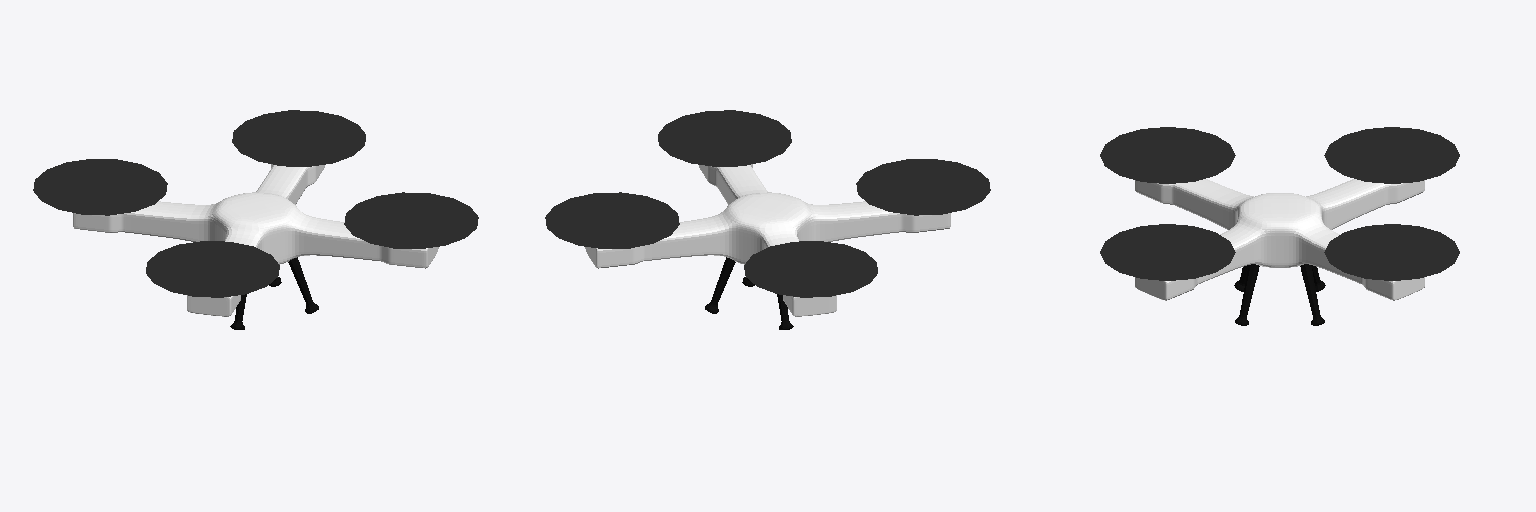
The model's file is Drone.obj.
The picture shows the model from 3 angles: view 1: azimuth 30°, elevation 25°; view 2: azimuth 150°, elevation 25°; view 3: azimuth 270°, elevation 25°; orthographic projection.
Visible parts, largest first — view 1: Circle, Cube, Cube.001; view 2: Circle, Cube, Cube.001; view 3: Circle, Cube, Cube.001.
Boxes of the visible parts, x1=… form: Circle: x1=33, y1=110, x2=478, y2=297; Cube: x1=73, y1=164, x2=438, y2=316; Cube.001: x1=230, y1=257, x2=318, y2=329; Circle: x1=545, y1=110, x2=990, y2=297; Cube: x1=585, y1=164, x2=950, y2=316; Cube.001: x1=705, y1=257, x2=793, y2=329; Circle: x1=1100, y1=127, x2=1459, y2=280; Cube: x1=1135, y1=179, x2=1424, y2=300; Cube.001: x1=1234, y1=264, x2=1325, y2=325.
Bounding box in the file's own units: 2.15 × 0.6758 × 2.12.